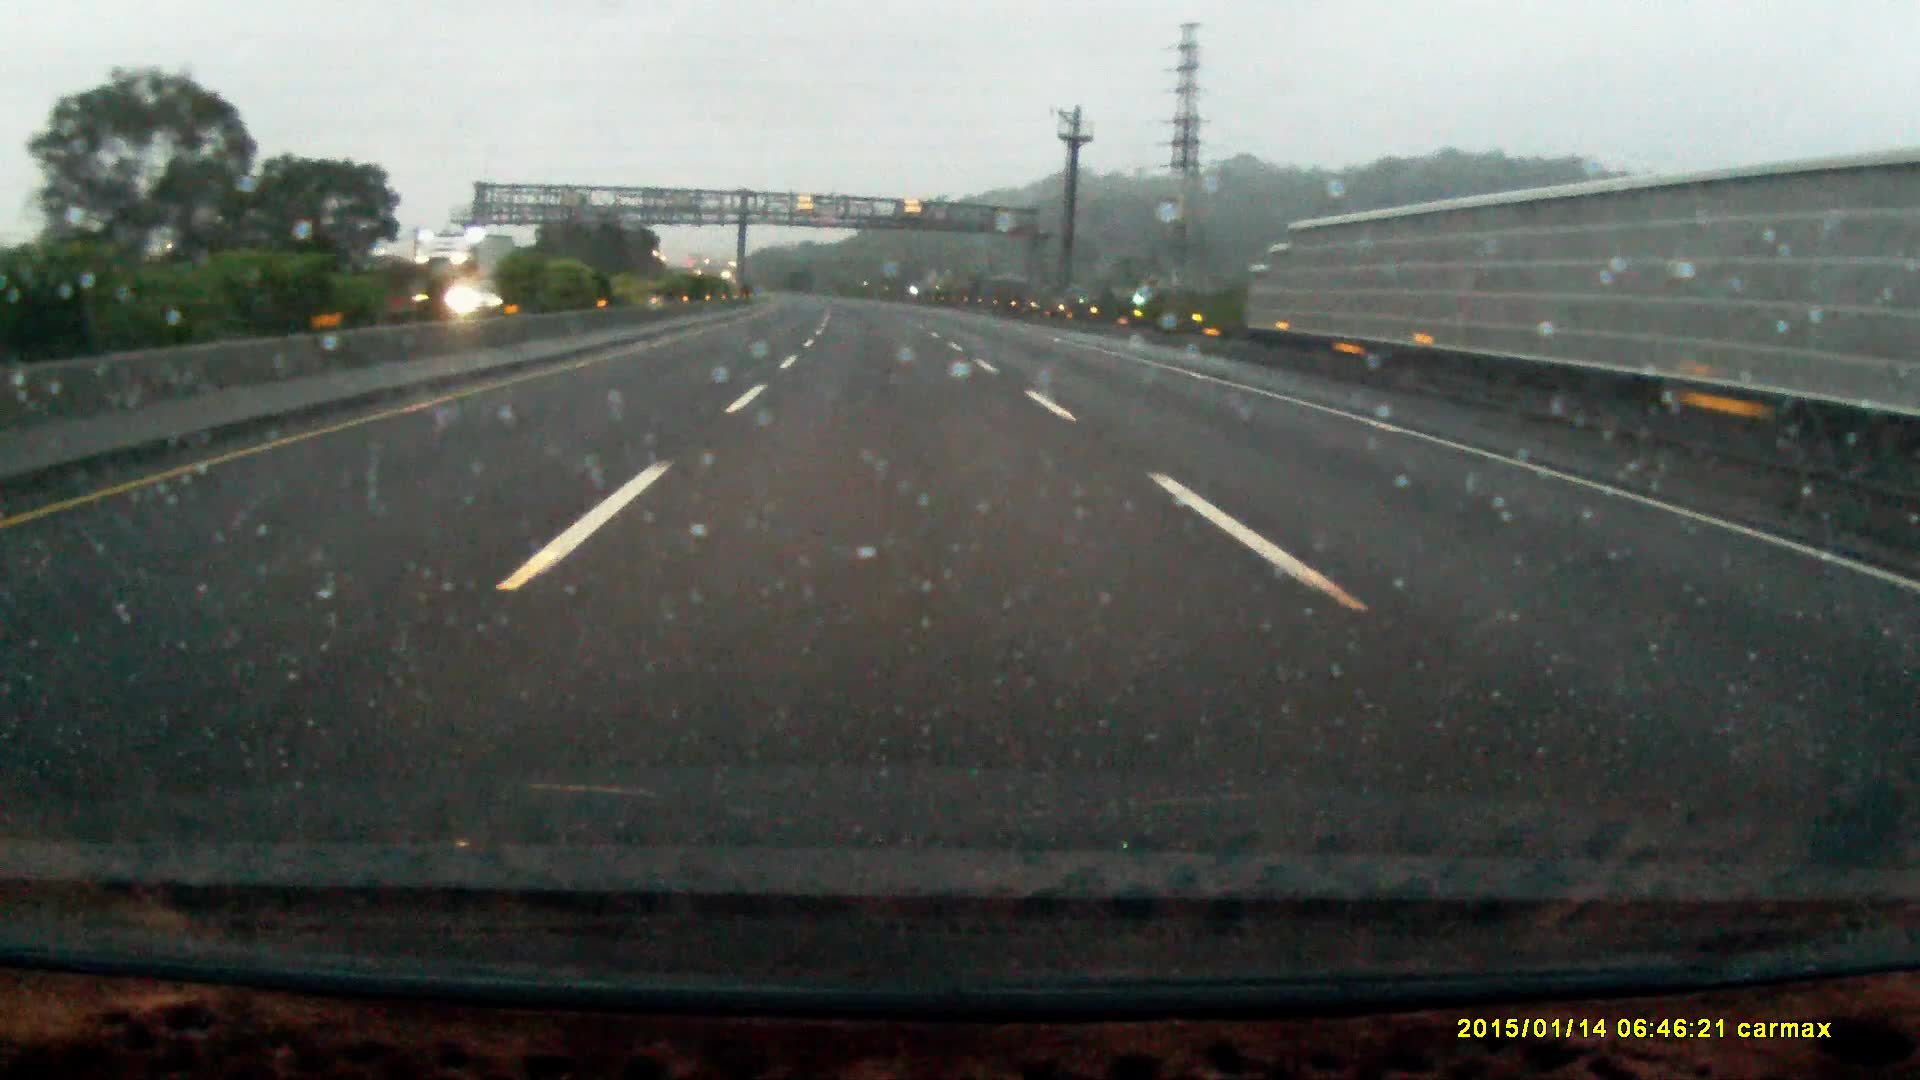vehicle: (413, 237, 520, 322), (448, 277, 535, 316)
